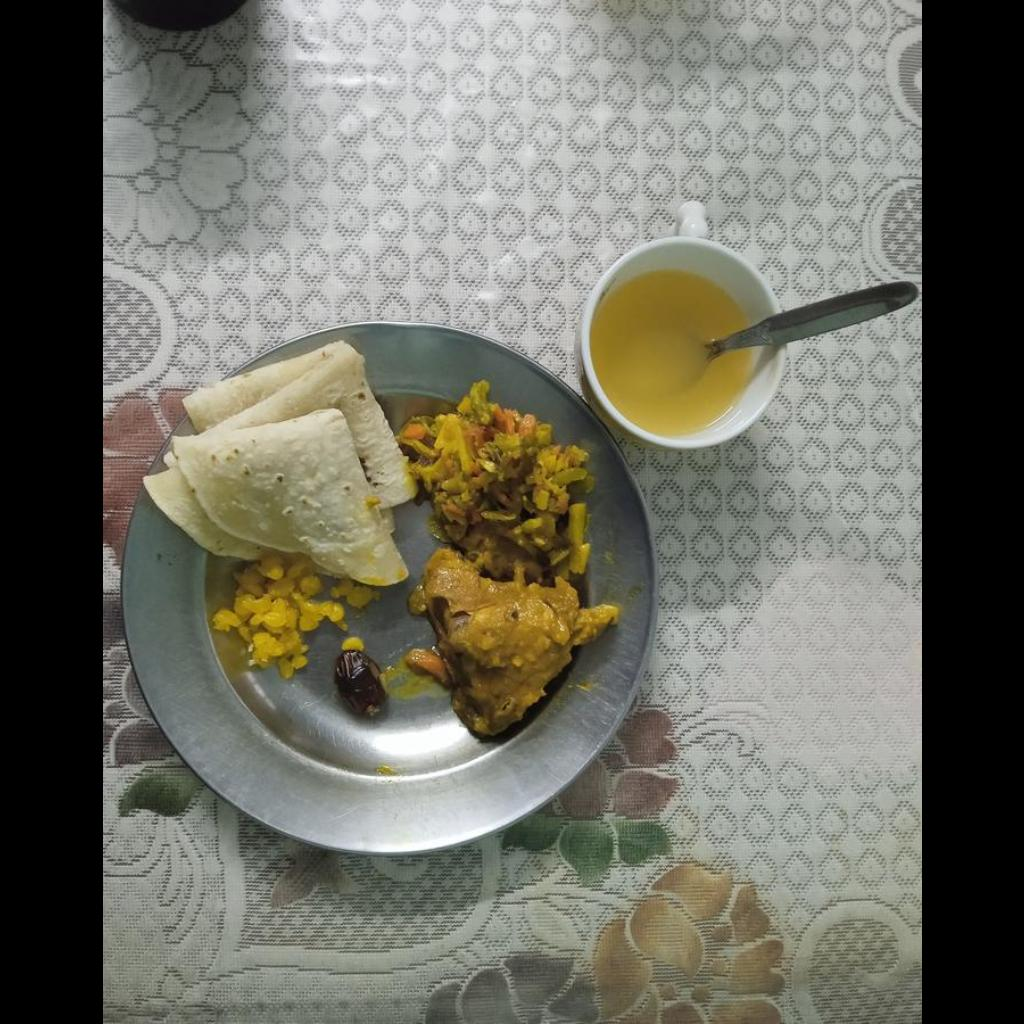burinda: (211, 558, 375, 677)
carrot: (417, 553, 616, 730)
dates: (333, 650, 385, 717)
juice: (597, 265, 757, 431)
ruti: (145, 343, 415, 587)
vegetable: (404, 384, 598, 566)
